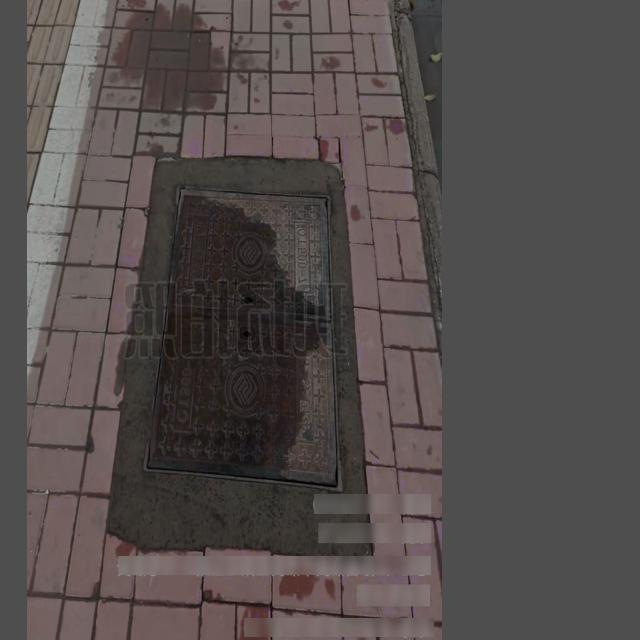good: (144, 183, 343, 488)
